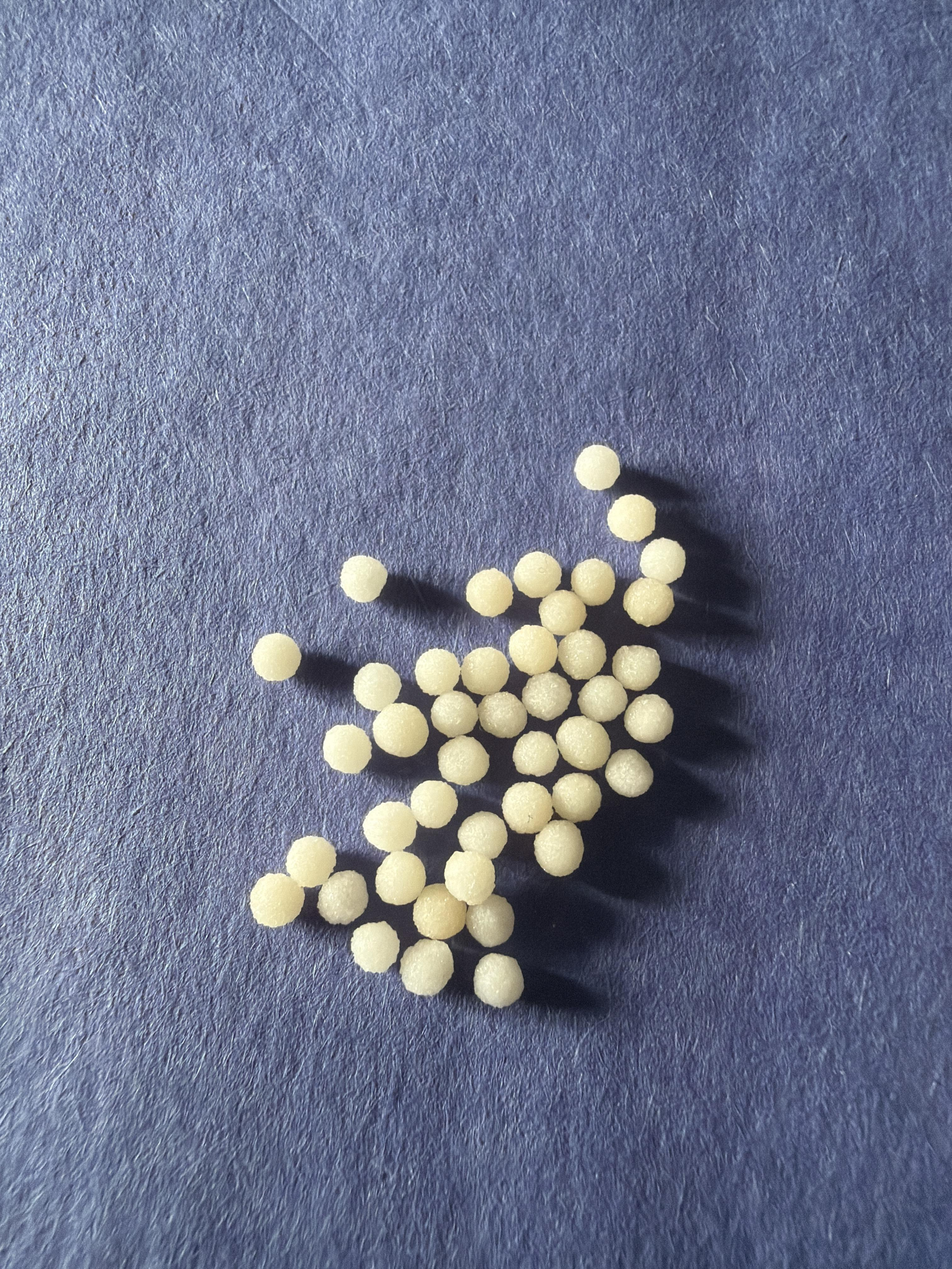pill: (249, 873, 304, 928), (372, 703, 428, 757), (400, 939, 453, 996), (556, 716, 610, 771), (413, 883, 466, 939), (444, 851, 495, 905), (363, 801, 417, 852), (534, 820, 583, 876), (317, 871, 368, 924), (474, 953, 524, 1007), (376, 852, 426, 905), (286, 835, 336, 888), (502, 782, 552, 833), (623, 577, 674, 627), (466, 894, 514, 947), (552, 772, 602, 822), (438, 736, 488, 786), (624, 694, 674, 743), (508, 625, 557, 675), (351, 922, 399, 973), (522, 672, 571, 721), (558, 630, 606, 680), (604, 749, 653, 797), (461, 647, 509, 696), (410, 780, 458, 829), (252, 633, 301, 681), (457, 812, 507, 859), (323, 725, 371, 773), (353, 663, 401, 711), (607, 494, 655, 542), (578, 675, 627, 722), (513, 551, 562, 598), (466, 569, 513, 617), (612, 645, 661, 691), (478, 692, 527, 738), (340, 556, 388, 602), (431, 691, 478, 737), (539, 590, 586, 636), (513, 731, 559, 777), (574, 444, 620, 490), (415, 649, 460, 696), (571, 558, 615, 606), (640, 538, 686, 583)
